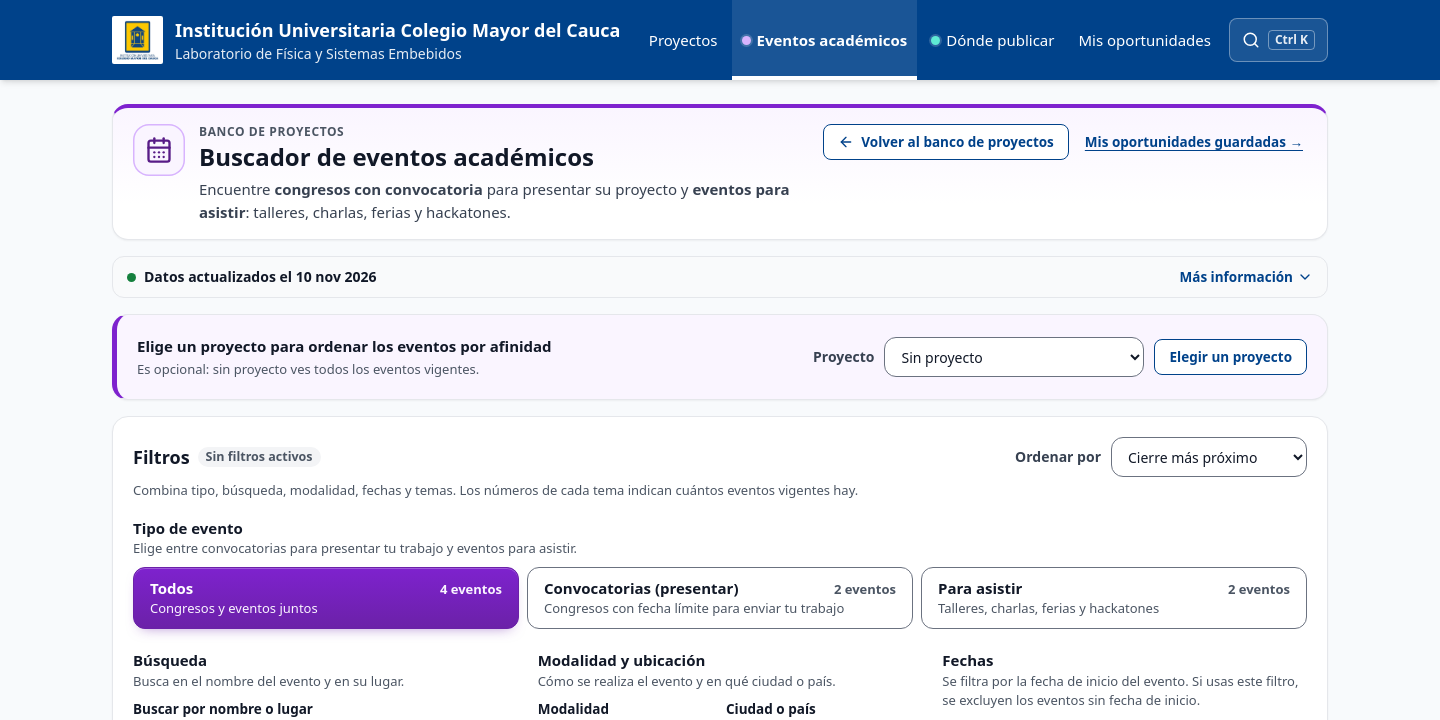
Test: /eventos filters › kind and topic combine, and «Limpiar filtros» restores every event and the plain URL
Step 1. Click the button "Convocatorias (presentar)" → (720, 598), box x1=527 y1=566 x2=913 y2=629
(page scrolled)
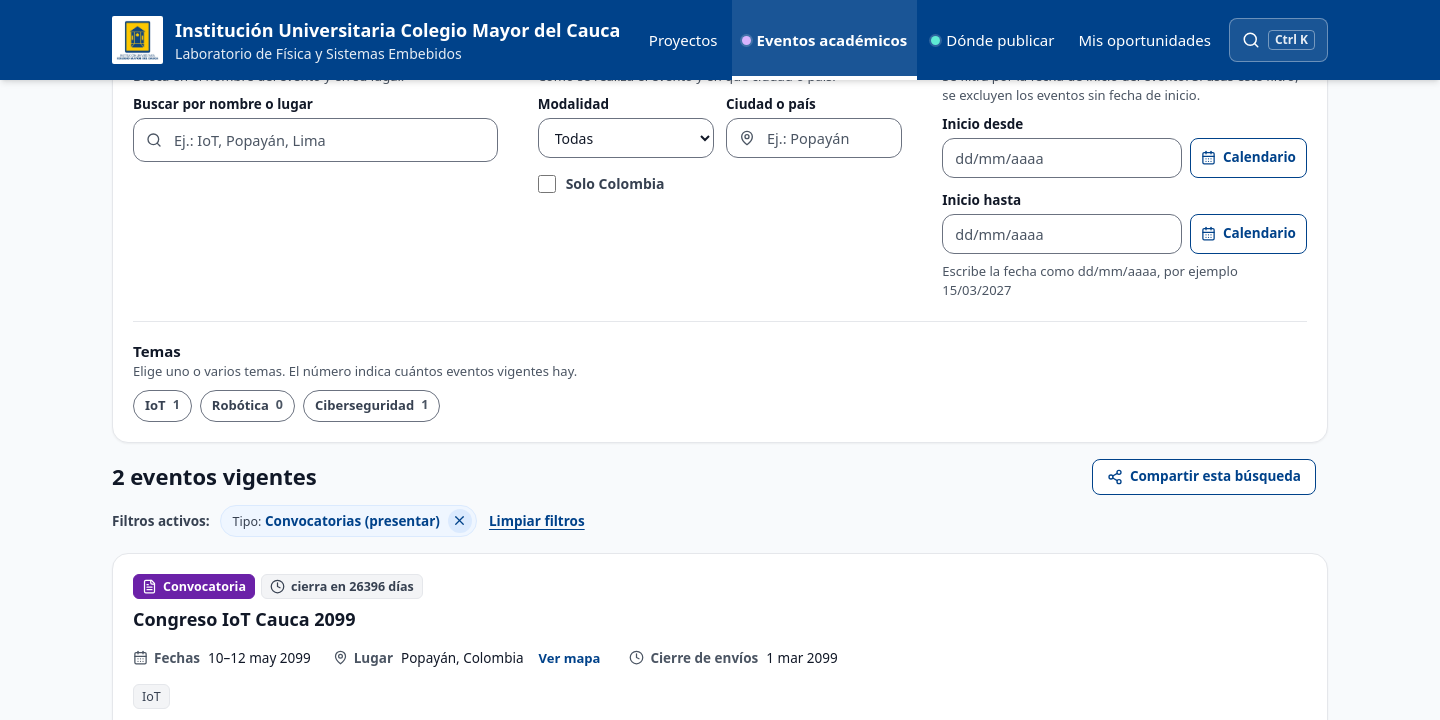
Step 2. Click the button "IoT 1" → (162, 406), box x1=133 y1=390 x2=192 y2=422
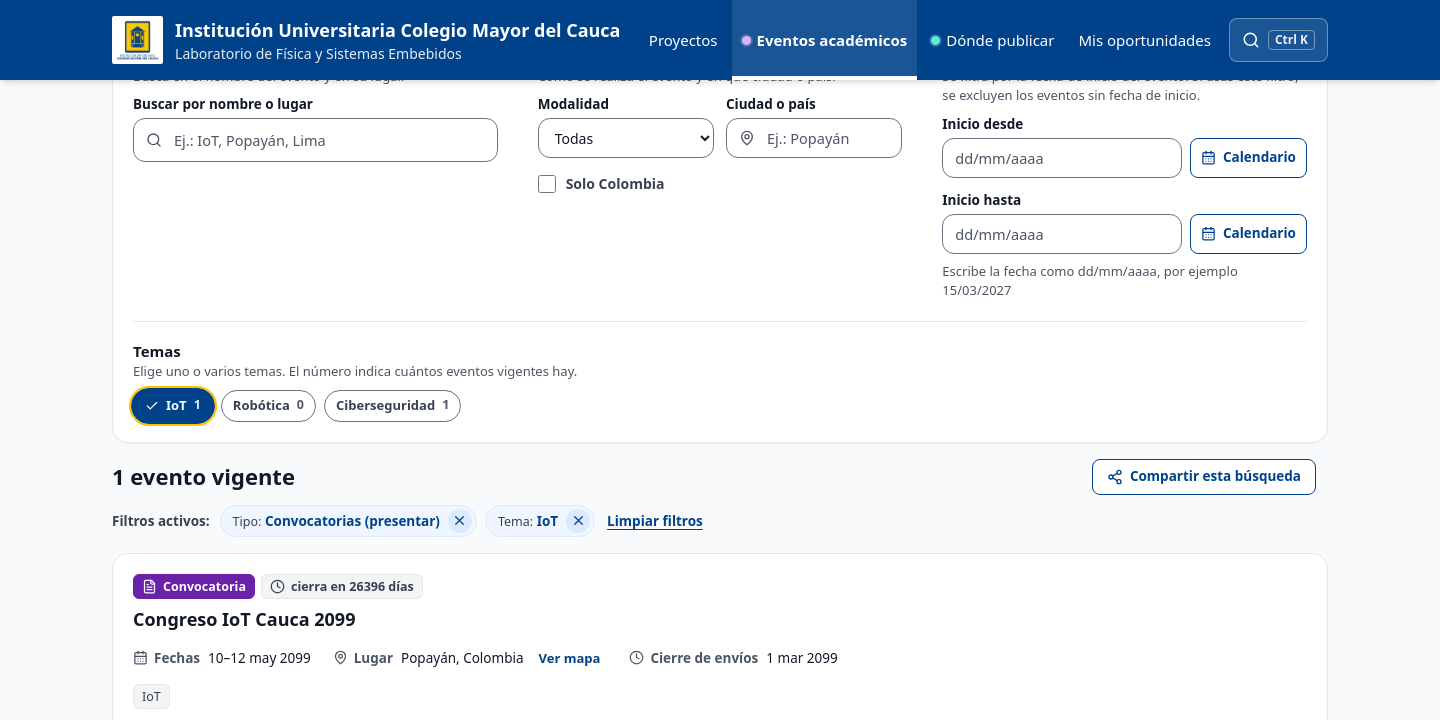
Step 3. Click the button "Limpiar filtros" → (655, 521), box x1=603 y1=505 x2=707 y2=537
(page scrolled)
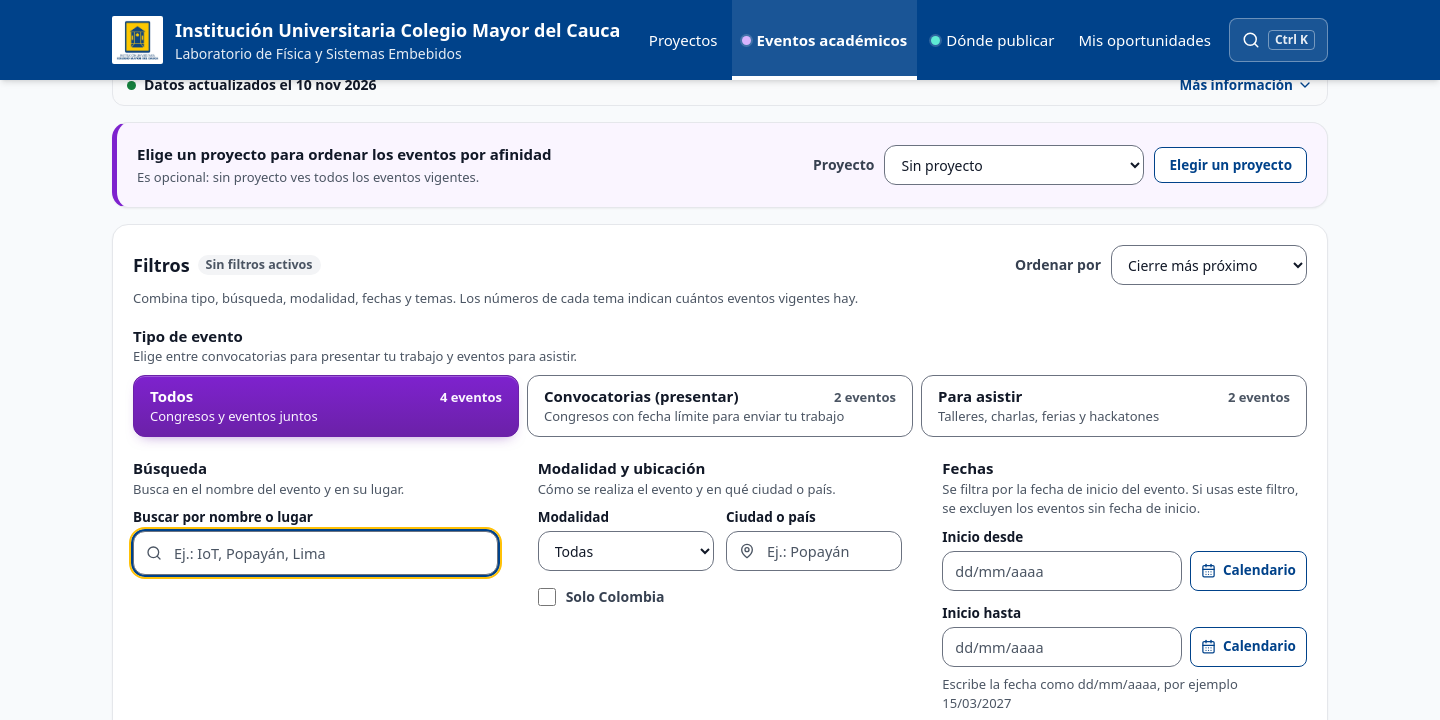
Check: the button "Limpiar filtros" is gone
